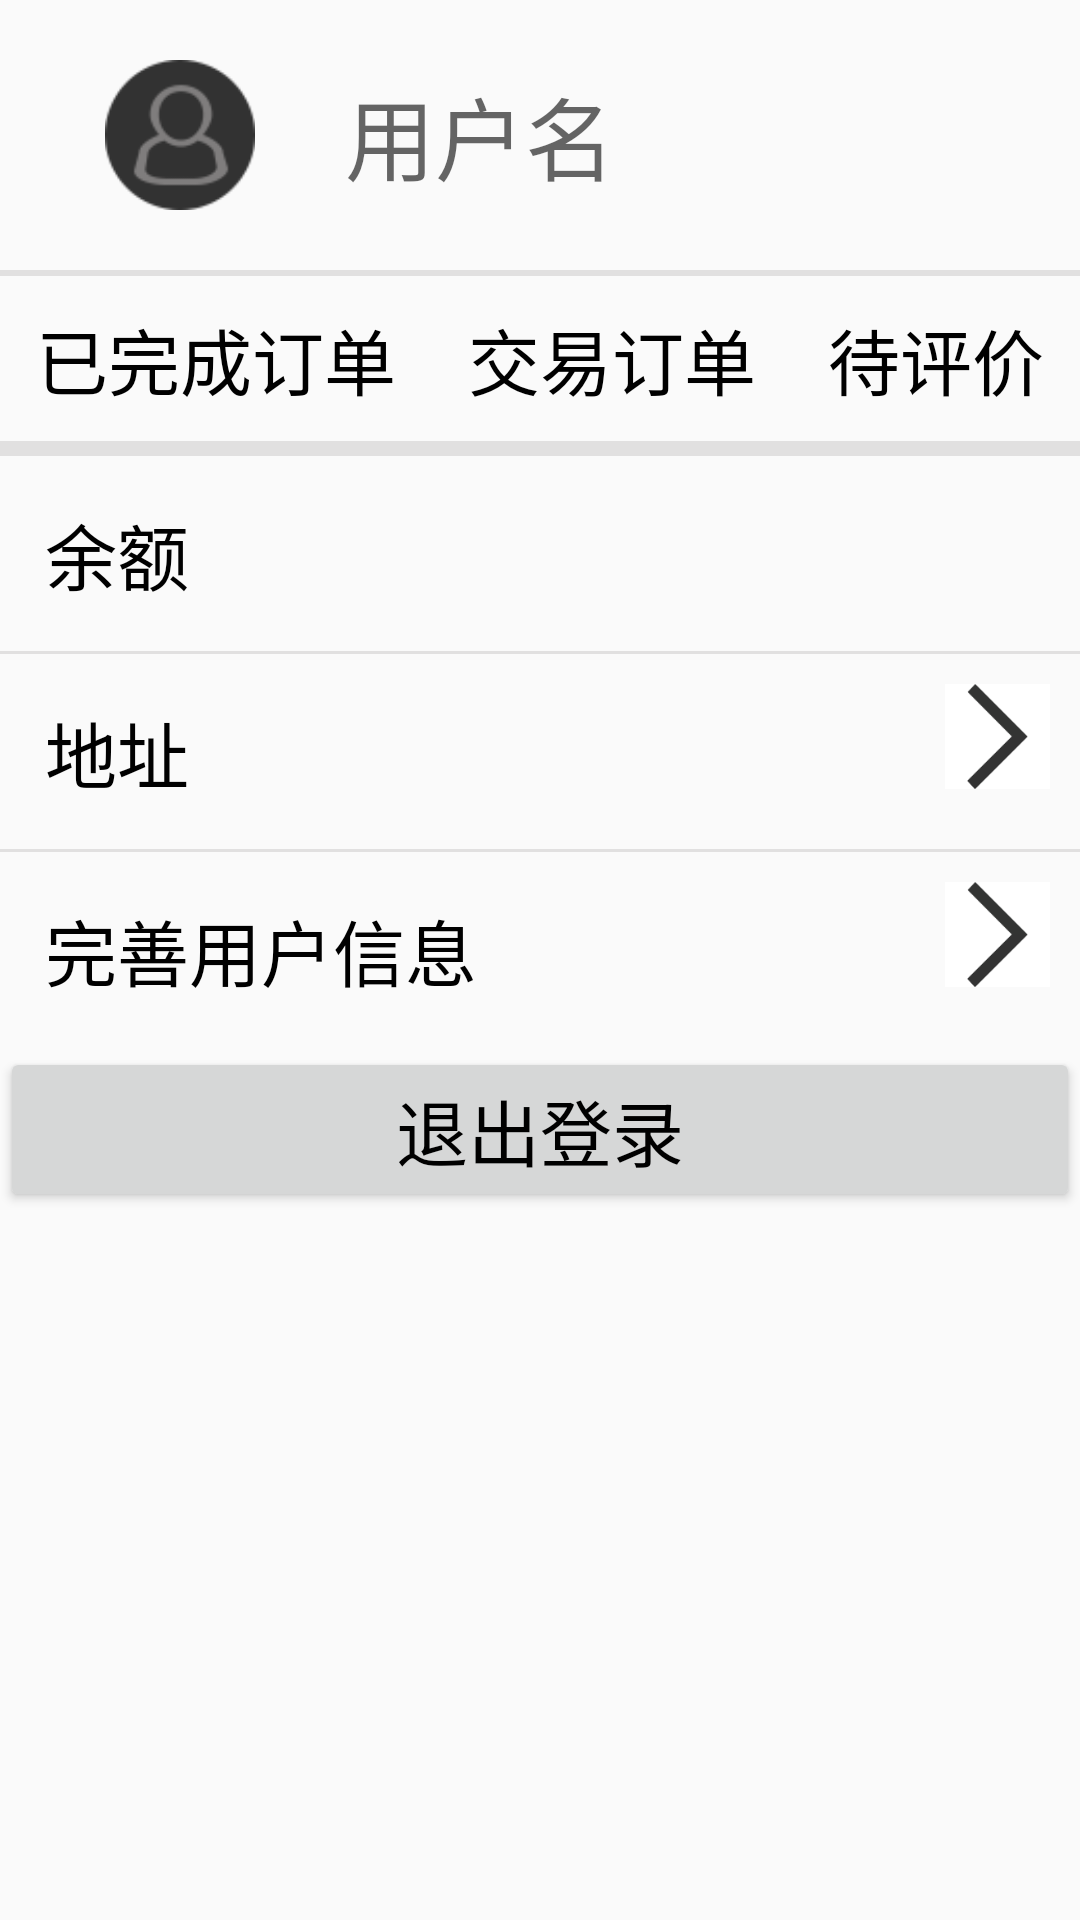

Icons on this 1080 × 1920 Android screen, each with its box as (x1, y1, x2, y2):
head: (105, 60, 255, 210)
rightimage: (967, 684, 1028, 789), (967, 882, 1028, 987)
